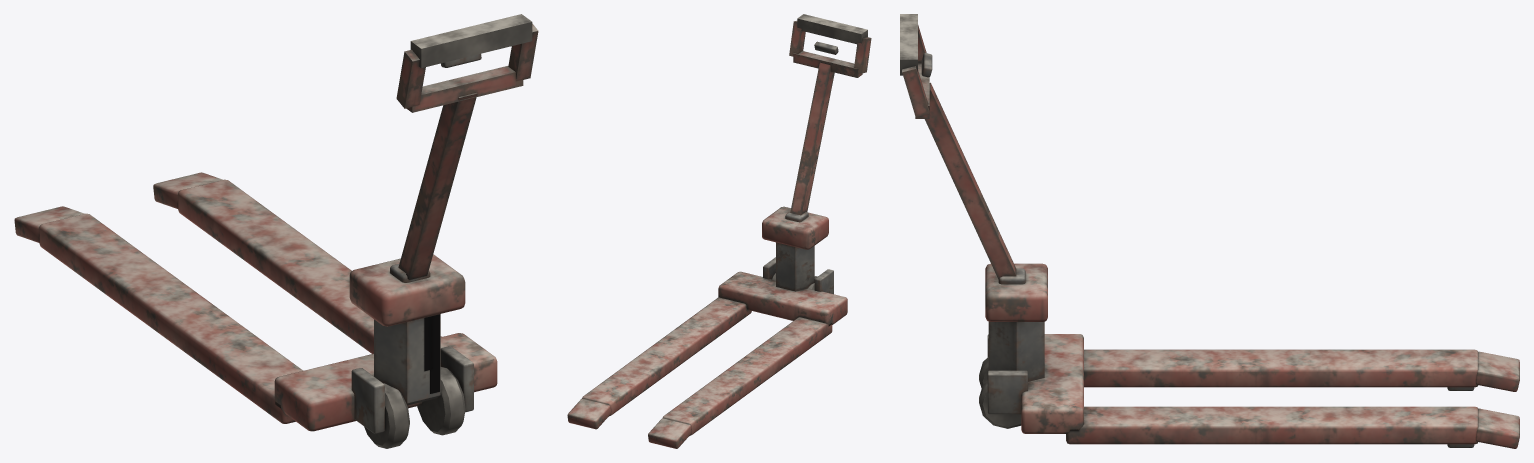
File: pallet_jack.fbx
The picture shows the model from 3 angles, left to right: view 1: azimuth 30°, elevation 25°; view 2: azimuth 150°, elevation 25°; view 3: azimuth 270°, elevation 25°; orthographic projection. The views are drawn at different scales.
Parts seen in each view (by area): view 1: Body; view 2: Body; view 3: Body.
Boxes of the visible parts, <box> form: Body: <box>14,14,538,448</box>; Body: <box>567,14,871,448</box>; Body: <box>900,14,1519,448</box>.
Size of the model in its own units: 2.05 by 4.65 by 6.91.
1 material, 1 textured.
